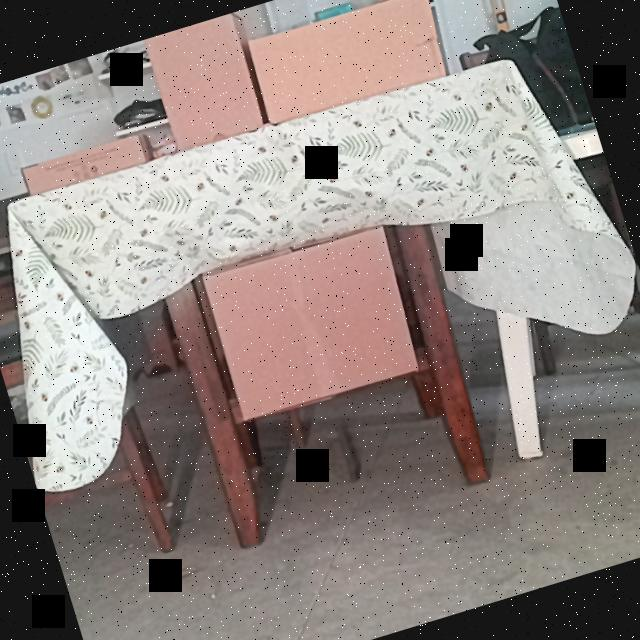box: (203, 228, 423, 421), (246, 0, 448, 123), (143, 13, 264, 152), (21, 132, 146, 196)
